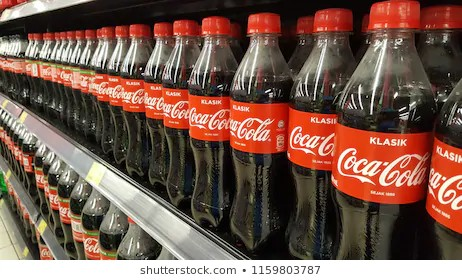coke-bottle-700ml: (331, 2, 438, 258), (279, 5, 366, 258), (224, 11, 295, 258), (188, 15, 240, 233), (165, 18, 202, 209), (145, 20, 171, 190), (123, 23, 151, 176), (109, 24, 129, 163)
